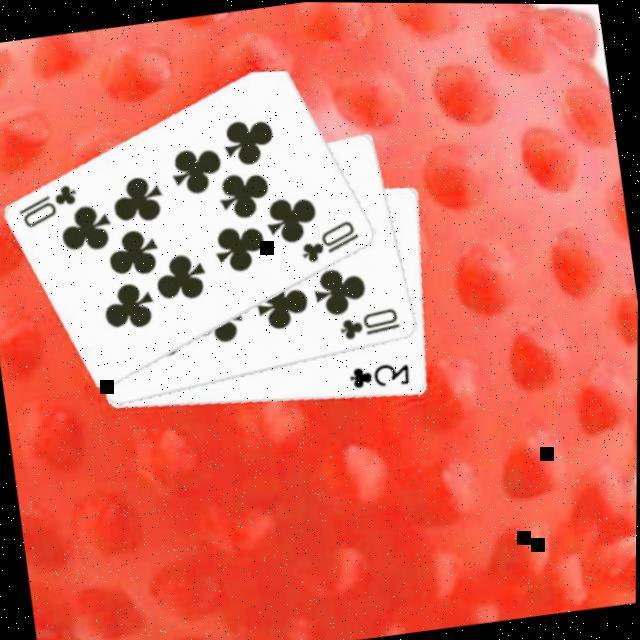10C: (14, 180, 87, 234), (298, 216, 368, 268), (337, 304, 407, 344)
3C: (348, 357, 418, 396)
